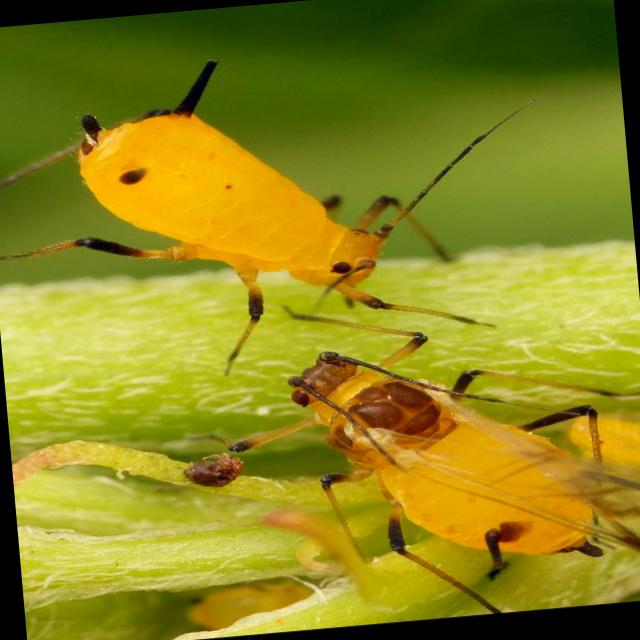Aphids: (190, 304, 640, 633), (21, 56, 486, 364)
